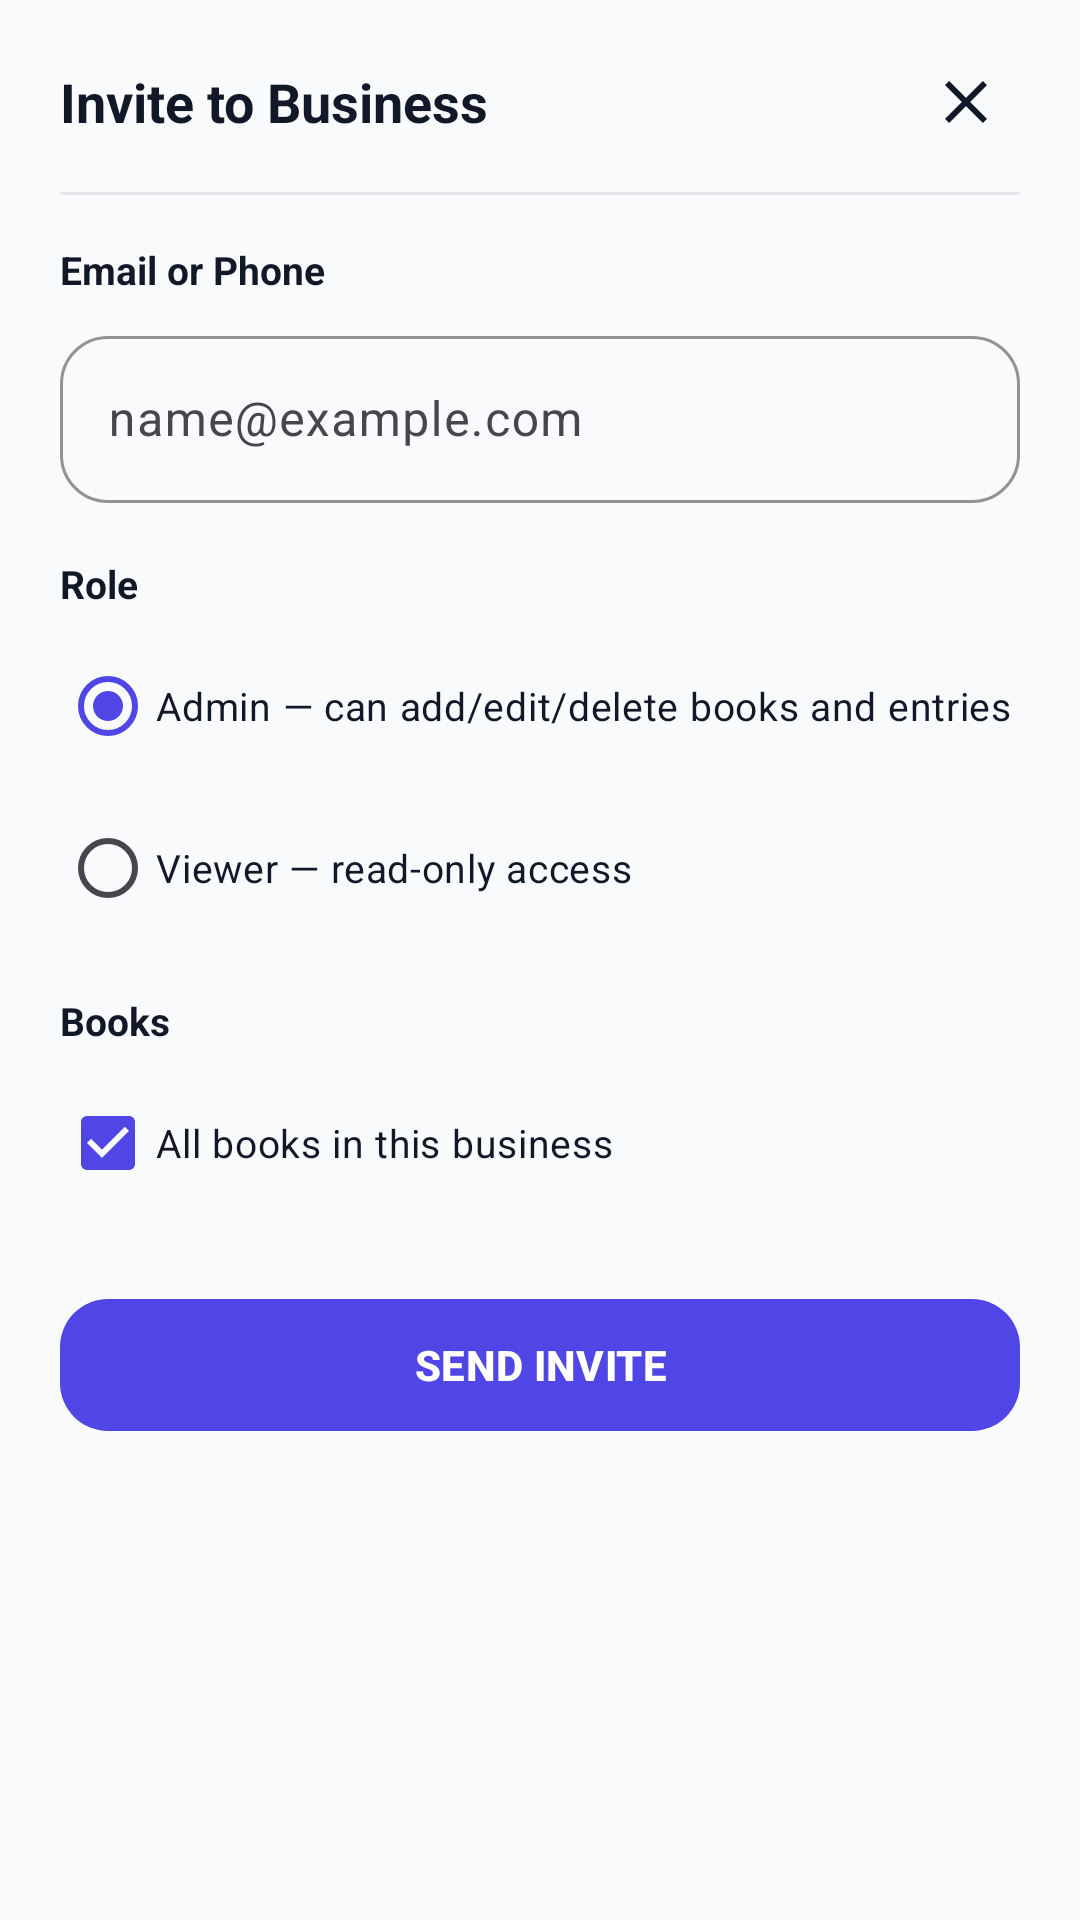

Where to tap for icons on this 1080 x 1920 app screen, as (x=x, y=y):
Close: (x=966, y=102)
